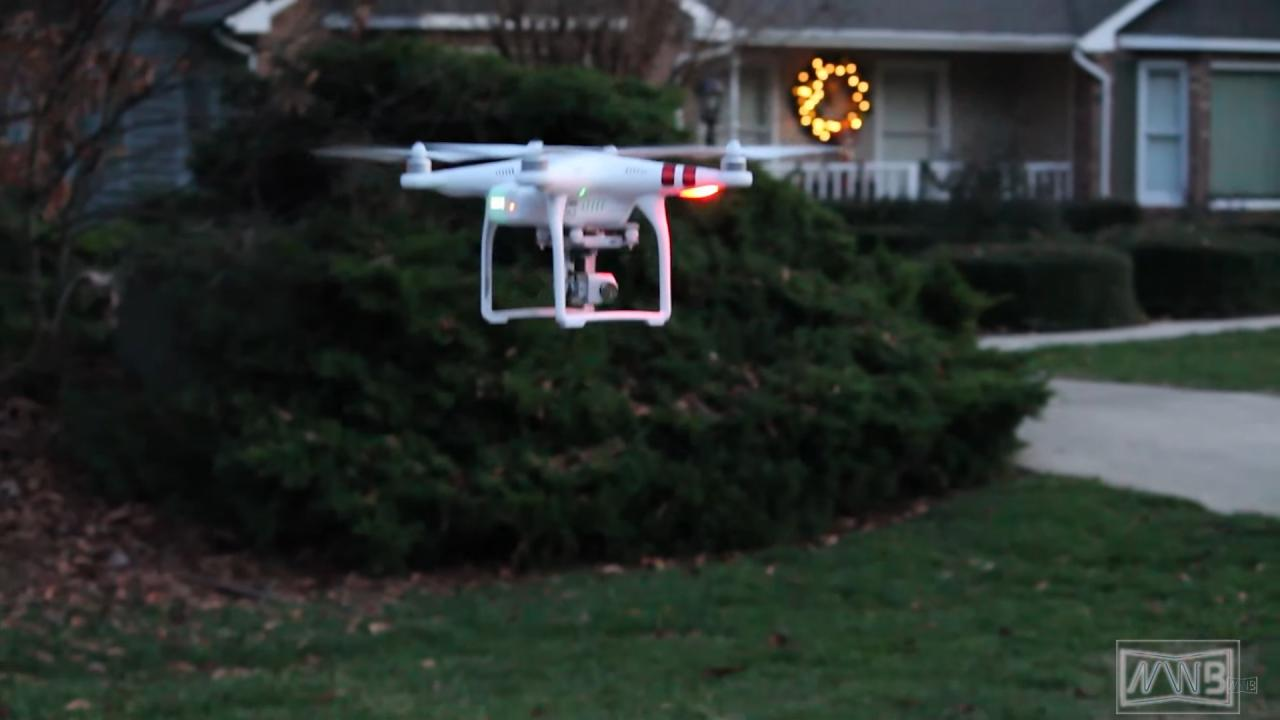Drone: (299, 124, 863, 344)
